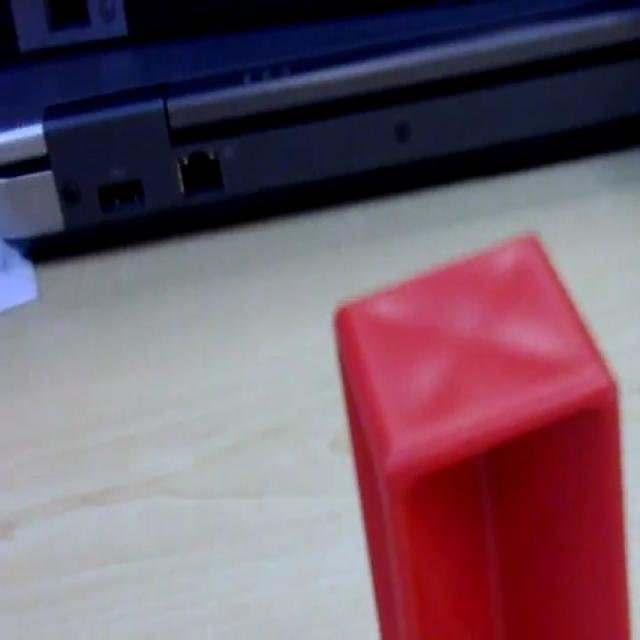red_block: (332, 227, 632, 636)
